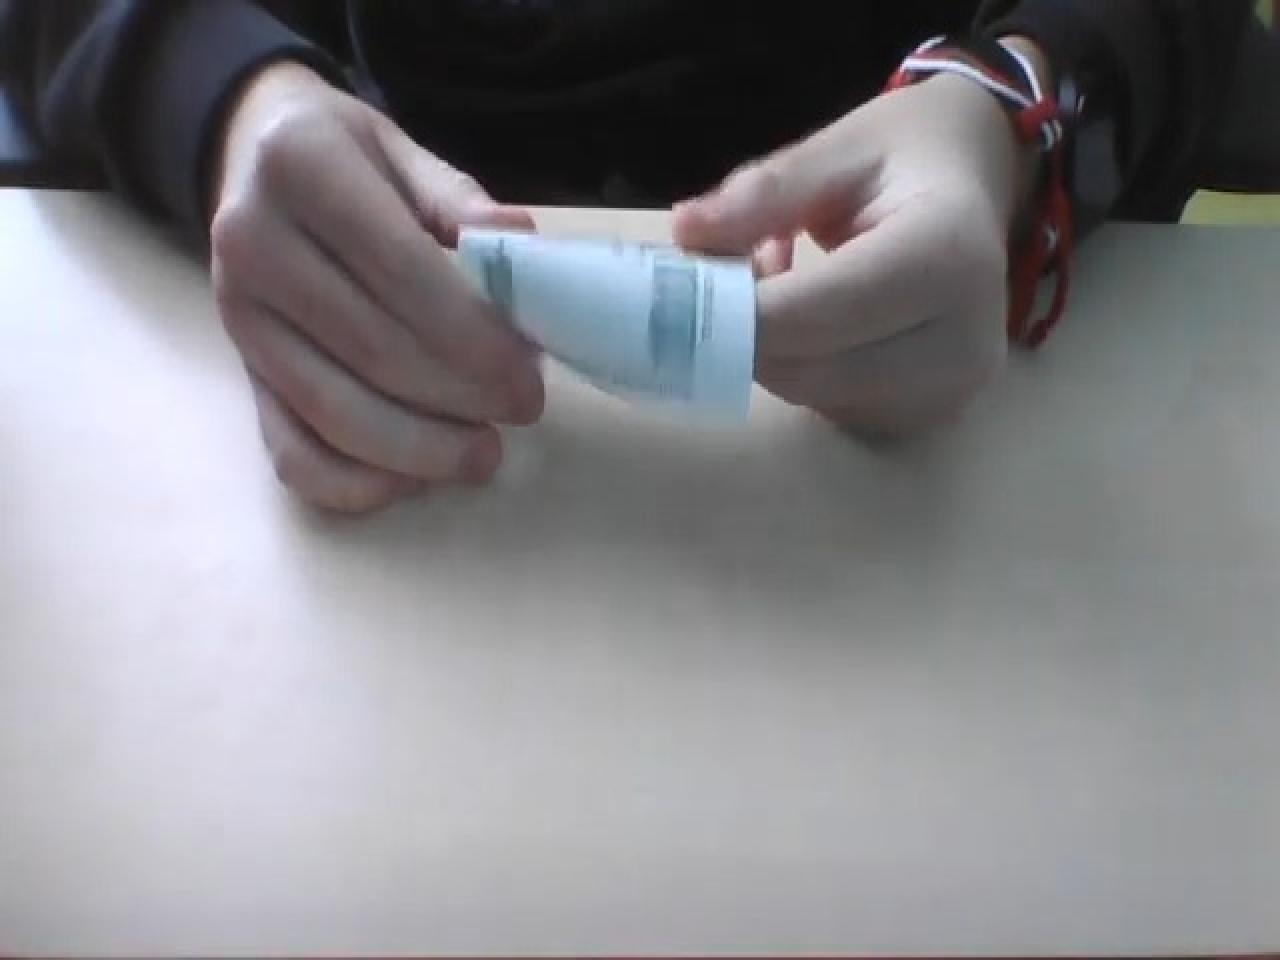100leva: (452, 221, 758, 427)
